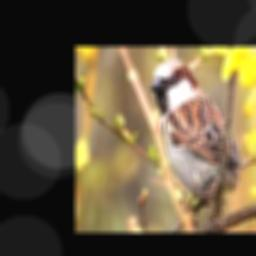Sparrow: (149, 59, 241, 212)
